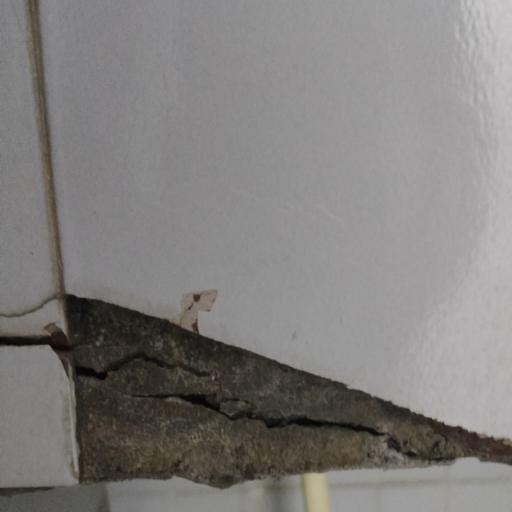spalling: (34, 266, 512, 491)
